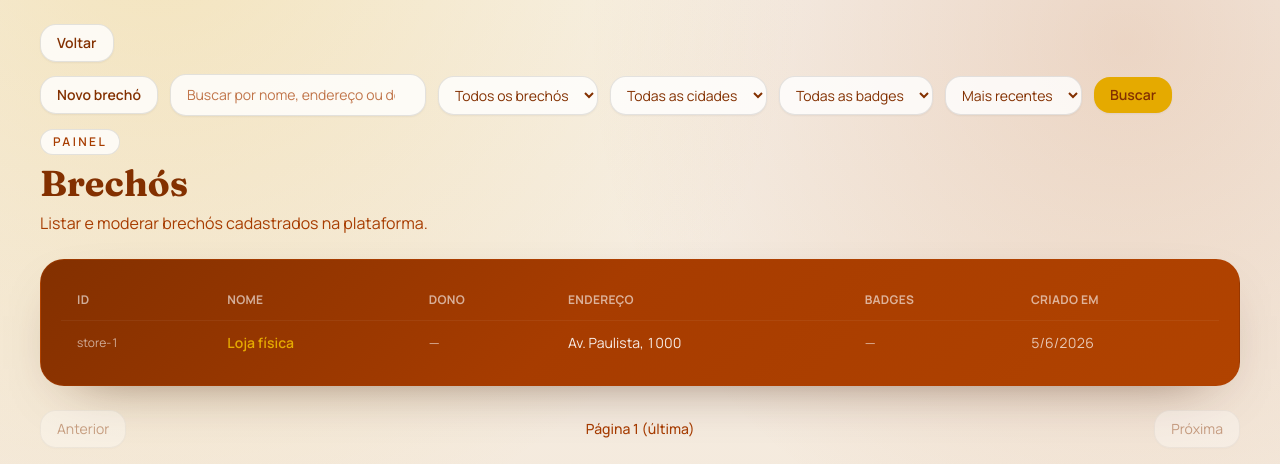
it: StoresPage › switches to the admin online-only endpoint, clears city, and omits the city param
The width and height of the screenshot is (1280, 464).
Expected: the link "Loja física" is shown, [227,333,294,352]
Select "São Paulo" in the dropdown named "Filtrar por cidade" at point(688, 95), box [610,76,767,114]
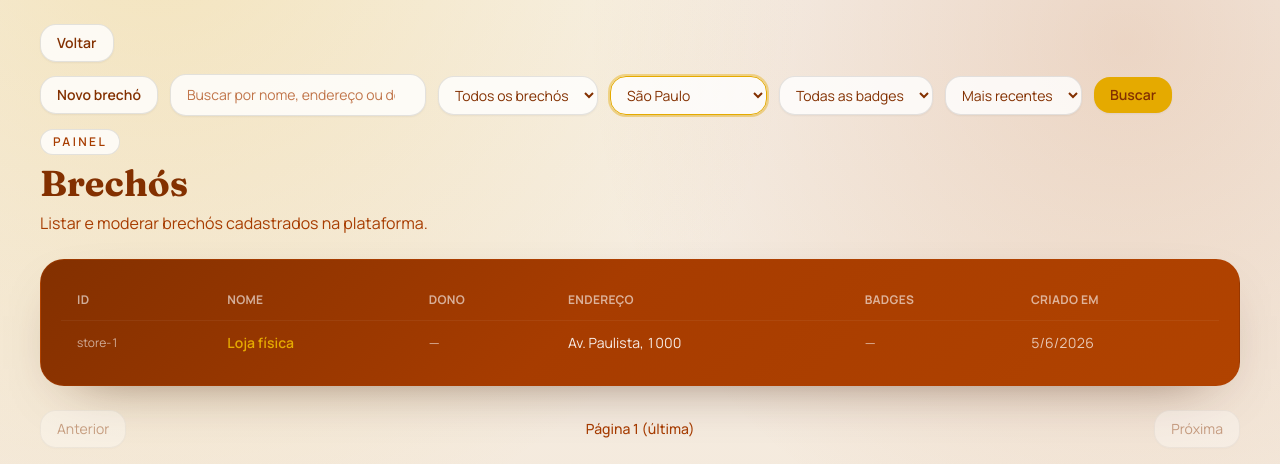
Select "Apenas online" in the dropdown named "Filtrar tipo de brechó" at point(518, 95), box [438,76,598,114]
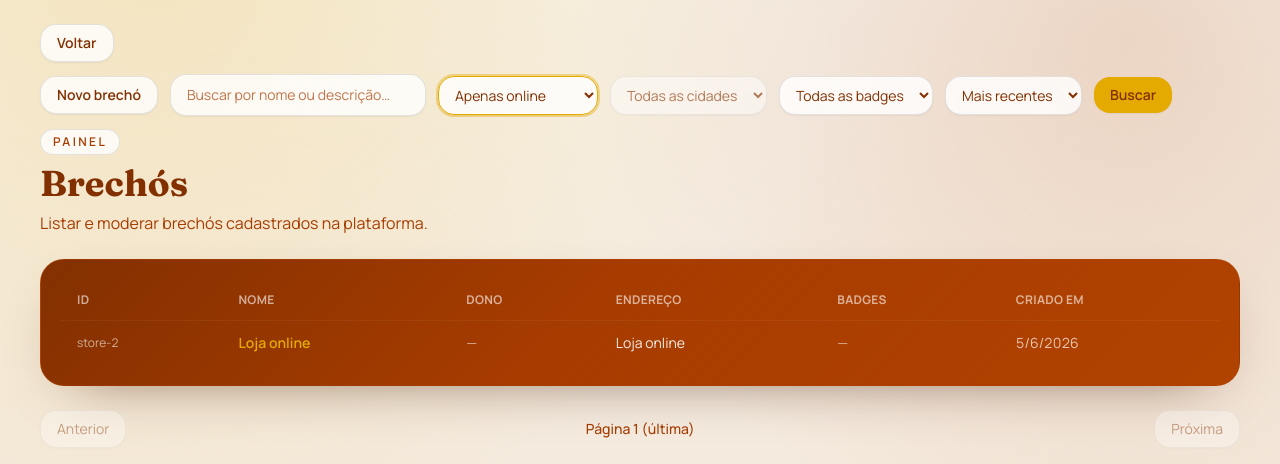
Expected: the number of links "Loja online" is 2, [238,333,310,352]; [600,320,821,365]
Now the link "Loja online" is shown, box [238,333,310,352]
Now the dropdown named "Filtrar por cidade" is disabled, box [610,76,767,114]
